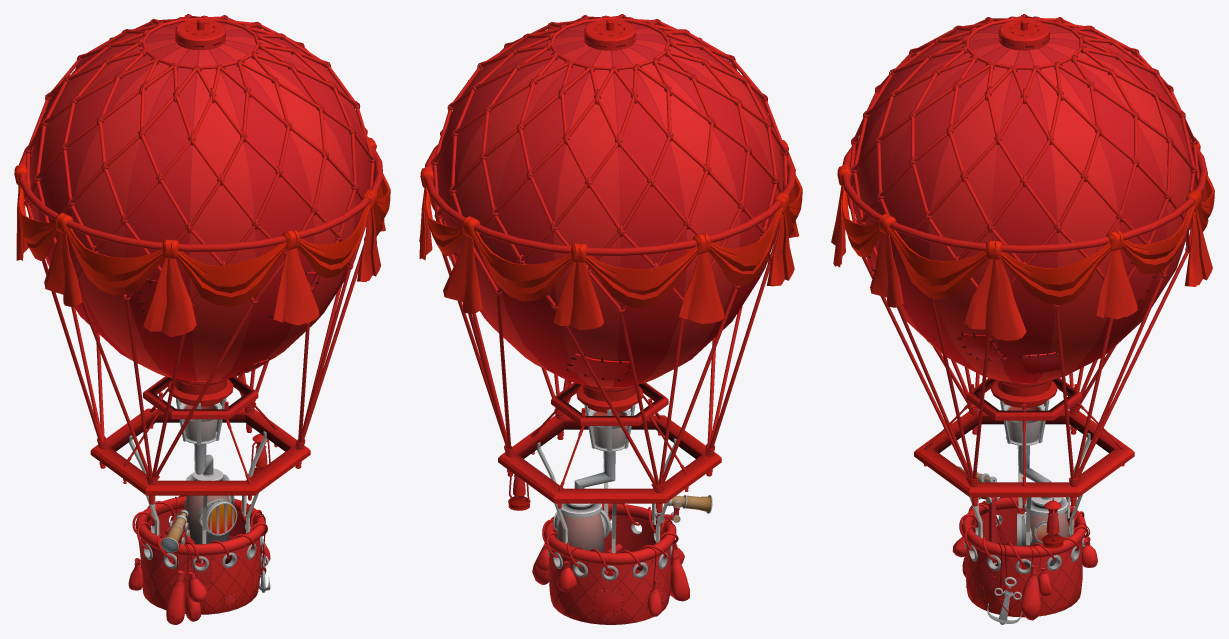
Rendered from hot_air_balloon-red.glb.
3 views of the same model, side by side, from view 1: azimuth 30°, elevation 25°; view 2: azimuth 150°, elevation 25°; view 3: azimuth 270°, elevation 25° (orthographic).
Parts seen in each view (by area): view 1: BezierCurve.003; view 2: BezierCurve.003; view 3: BezierCurve.003.
Part boxes in pixels (<box>): BezierCurve.003: <box>14,14,390,624</box>; BezierCurve.003: <box>419,14,802,624</box>; BezierCurve.003: <box>831,14,1214,624</box>.
Bounding box in the file's own units: 10.02 × 16.79 × 10.09.
